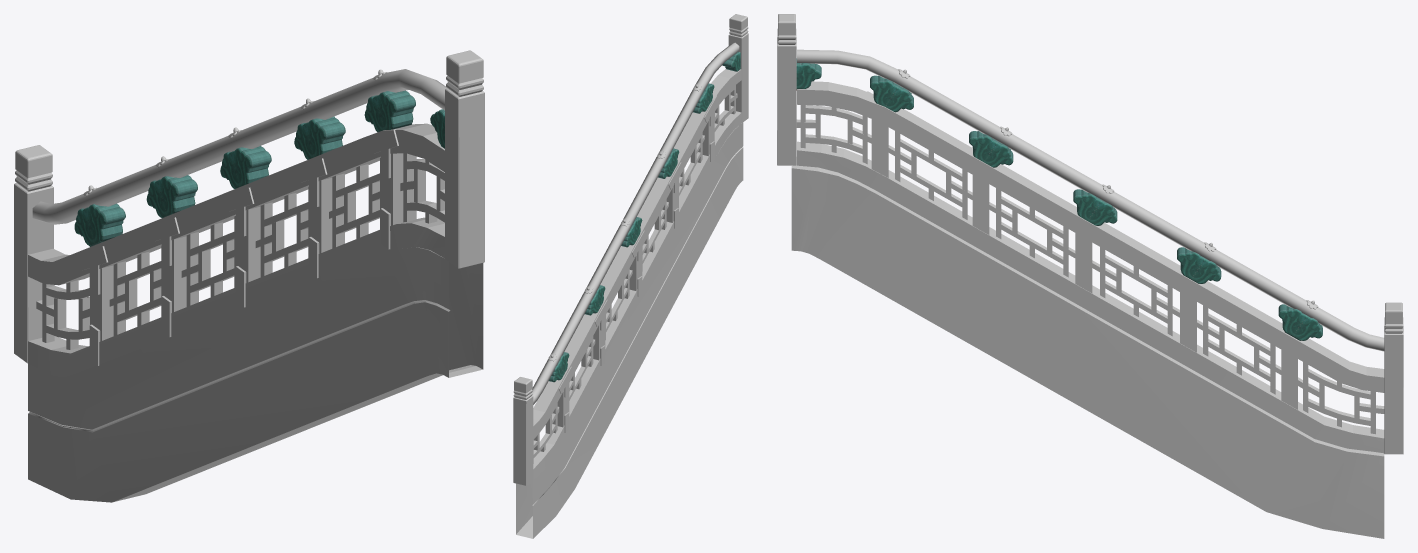
File: SM_Handrail01I.fbx
3 renders of one model, left to right at view 1: azimuth 30°, elevation 25°; view 2: azimuth 150°, elevation 25°; view 3: azimuth 270°, elevation 25°, orthographic. The views are drawn at different scales.
Visible parts, largest first — view 1: SM_Handrail01I; view 2: SM_Handrail01I; view 3: SM_Handrail01I.
Part boxes in pixels (x1=…): SM_Handrail01I: x1=14, y1=50, x2=484, y2=502; SM_Handrail01I: x1=513, y1=14, x2=748, y2=538; SM_Handrail01I: x1=777, y1=14, x2=1403, y2=538.
Bounding box in the file's own units: 9.28 × 192 × 174.
